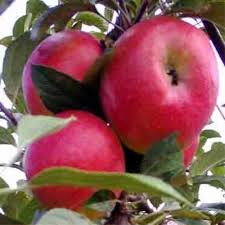apple: (100, 14, 220, 149)
